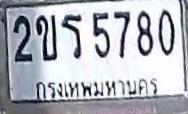0: (158, 8, 174, 56)
2: (13, 16, 32, 62)
5: (92, 12, 110, 59)
7: (114, 11, 130, 58)
8: (136, 10, 153, 56)
A02: (36, 14, 58, 61)
A35: (61, 14, 82, 59)
BKK: (32, 75, 161, 102)
